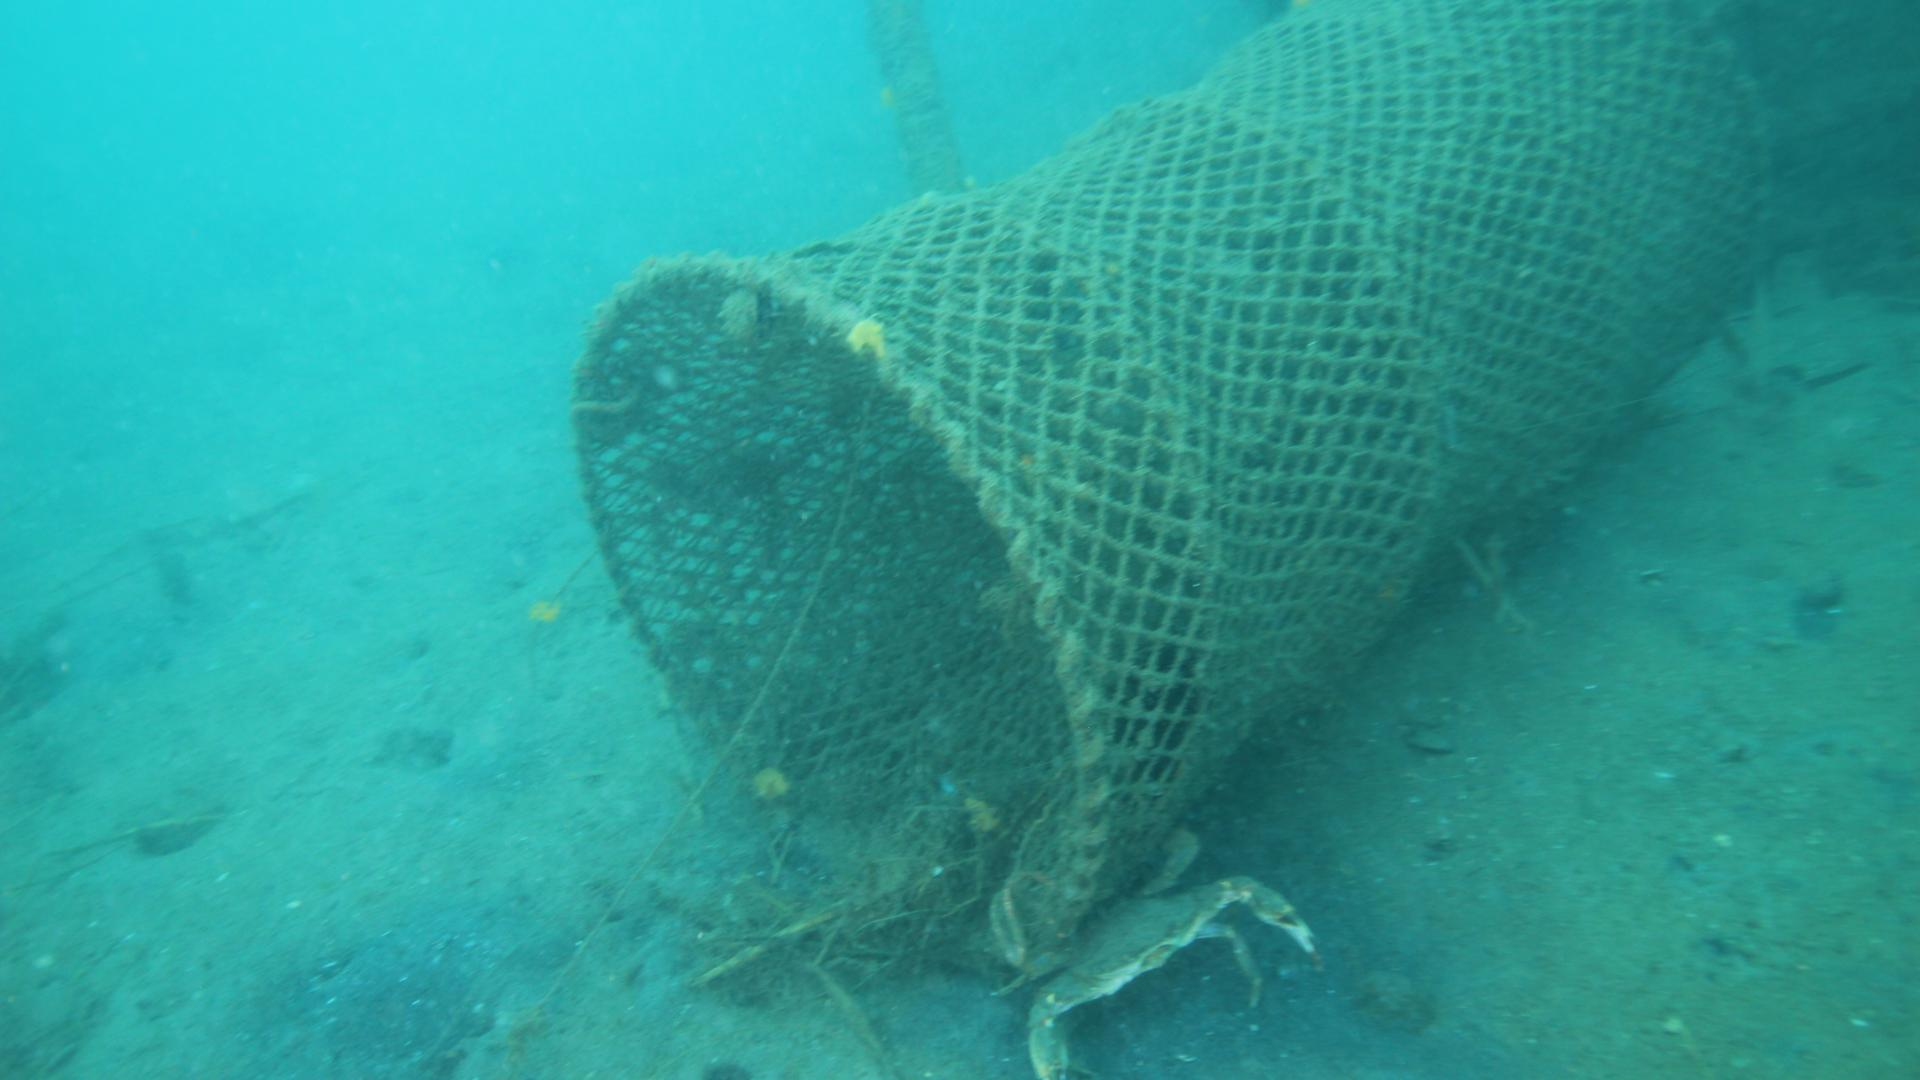spring fish trap: (568, 0, 1776, 972)
